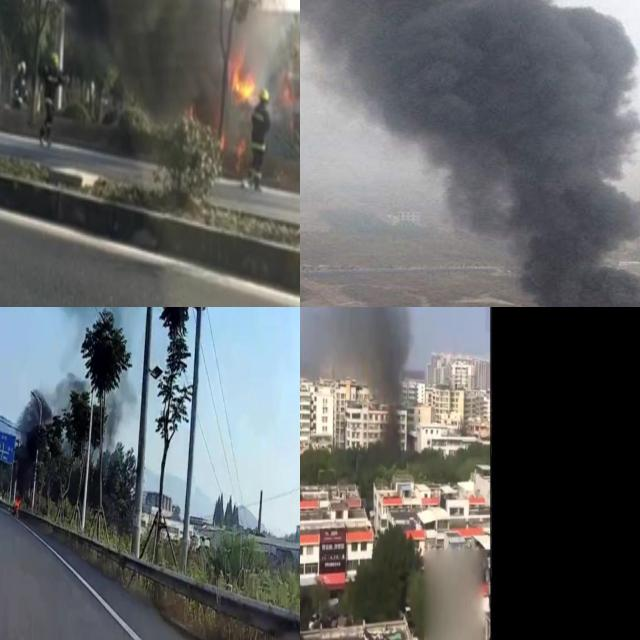fire: (228, 56, 258, 103), (284, 72, 300, 108), (12, 492, 23, 511)
smoke: (300, 0, 640, 307), (14, 307, 219, 493), (57, 0, 300, 138), (320, 307, 409, 382)
